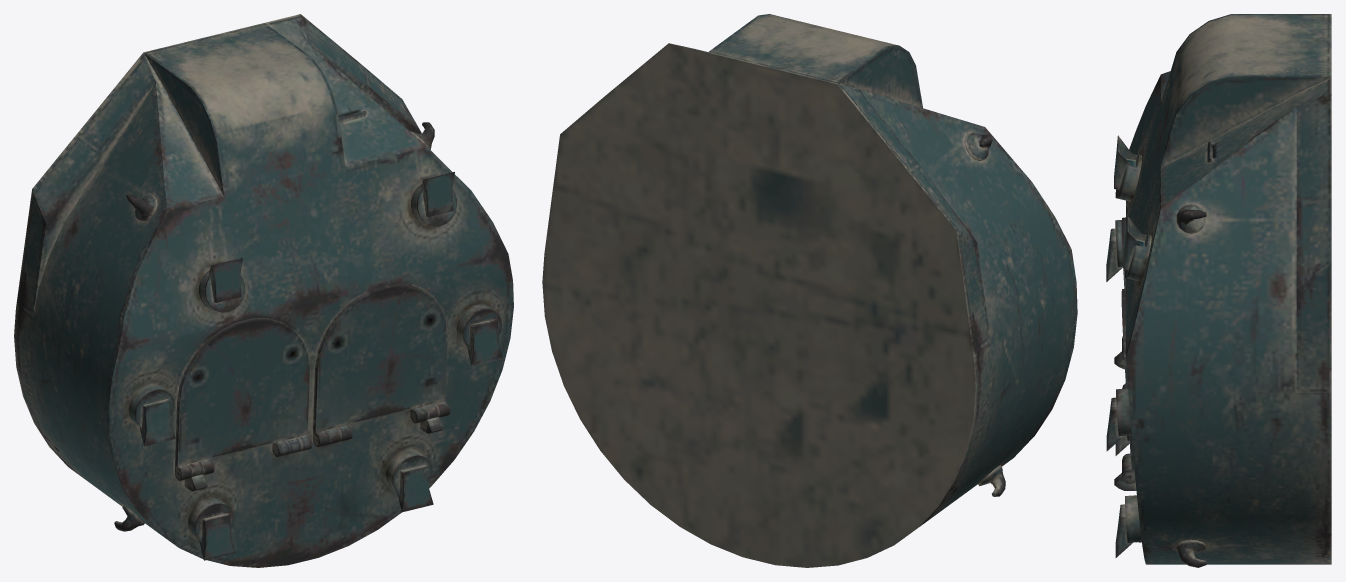
Rendered from Turret_02.glb.
3 renders of one model, left to right at view 1: azimuth 30°, elevation 25°; view 2: azimuth 150°, elevation 25°; view 3: azimuth 270°, elevation 25°, orthographic. The views are drawn at different scales.
Visible parts, largest first — view 1: set_0_group_0; view 2: set_0_group_0; view 3: set_0_group_0.
Boxes of the visible parts, x1,y1,x2,y2 form: set_0_group_0: (14,14,513,567); set_0_group_0: (542,14,1077,567); set_0_group_0: (1106,14,1331,567).
Bounding box in the file's own units: 1.64 × 1.79 × 0.7489.
Materials: 1 (1 with a texture image).
